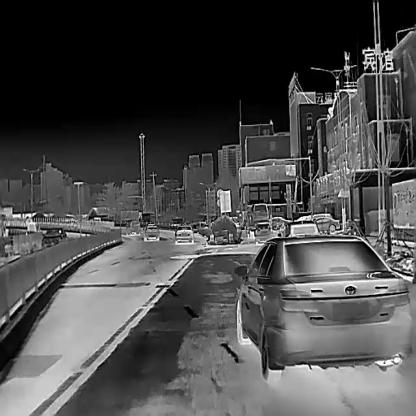car: (236, 233, 411, 385), (284, 221, 320, 237), (40, 227, 67, 246), (310, 217, 340, 233), (173, 224, 194, 244), (247, 202, 268, 222), (252, 223, 274, 239), (143, 223, 159, 242), (124, 219, 139, 235)
